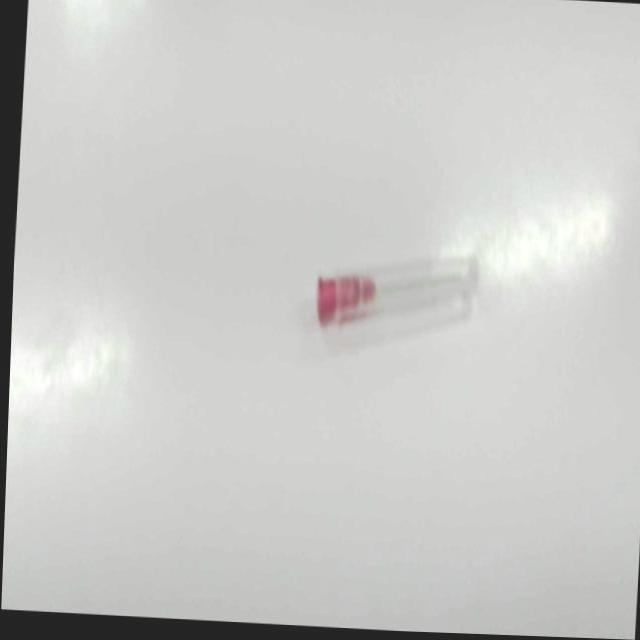General: (315, 274, 378, 331)
Pathological: (5, 3, 639, 638)
Sharps: (315, 255, 481, 354)
